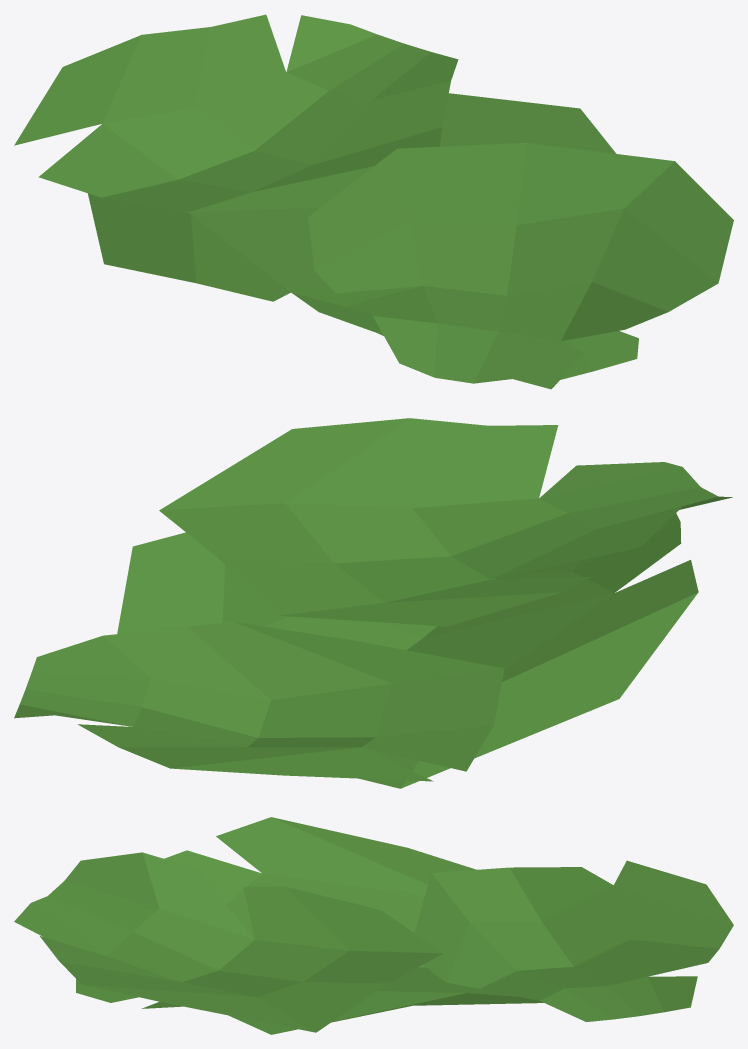
The model's file is Cabbage_Slices.fbx.
3 views of the same model, one above another, from view 1: azimuth 30°, elevation 25°; view 2: azimuth 150°, elevation 25°; view 3: azimuth 270°, elevation 25° (orthographic). The views are drawn at different scales.
Visible parts, largest first — view 1: Slice_2, Slice_3, Slice_1; view 2: Slice_2, Slice_3, Slice_1; view 3: Slice_2, Slice_3, Slice_1.
Boxes of the visible parts, x1,y1,x2,y2 form: Slice_2: (308,143,733,389); Slice_3: (14,14,458,212); Slice_1: (88,93,638,379); Slice_2: (159,418,732,626); Slice_3: (14,621,504,781); Slice_1: (117,513,698,788); Slice_2: (14,852,443,1032); Slice_3: (414,860,733,1021); Slice_1: (76,817,543,1034).
Size of the model in its own units: 0.5466 by 0.0778 by 0.829.
